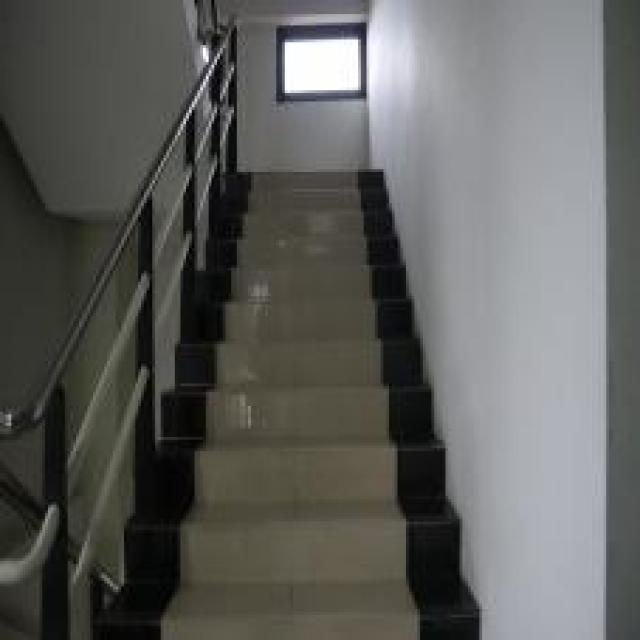upstair: (181, 176, 427, 638)
